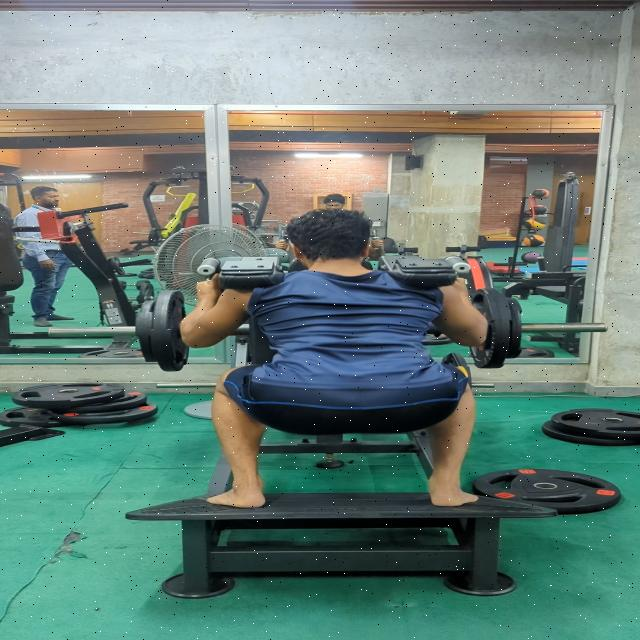Normal_SquatsWithBarbell: (150, 201, 502, 516)
